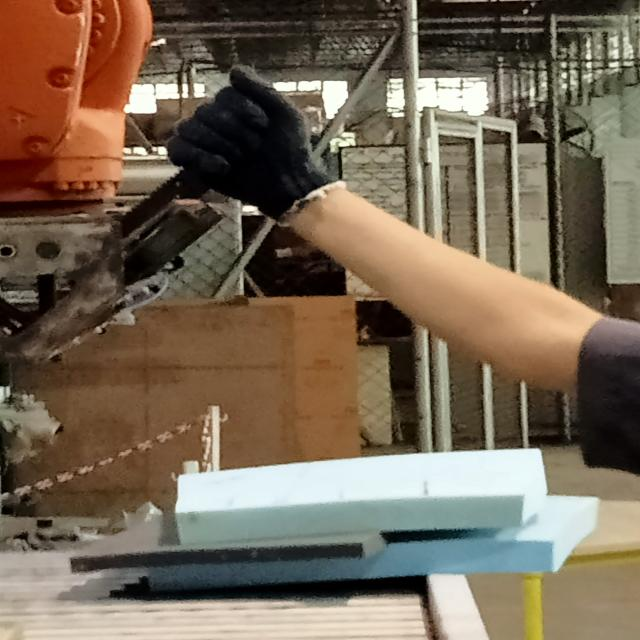Gloves-Detection: (150, 65, 332, 224)
